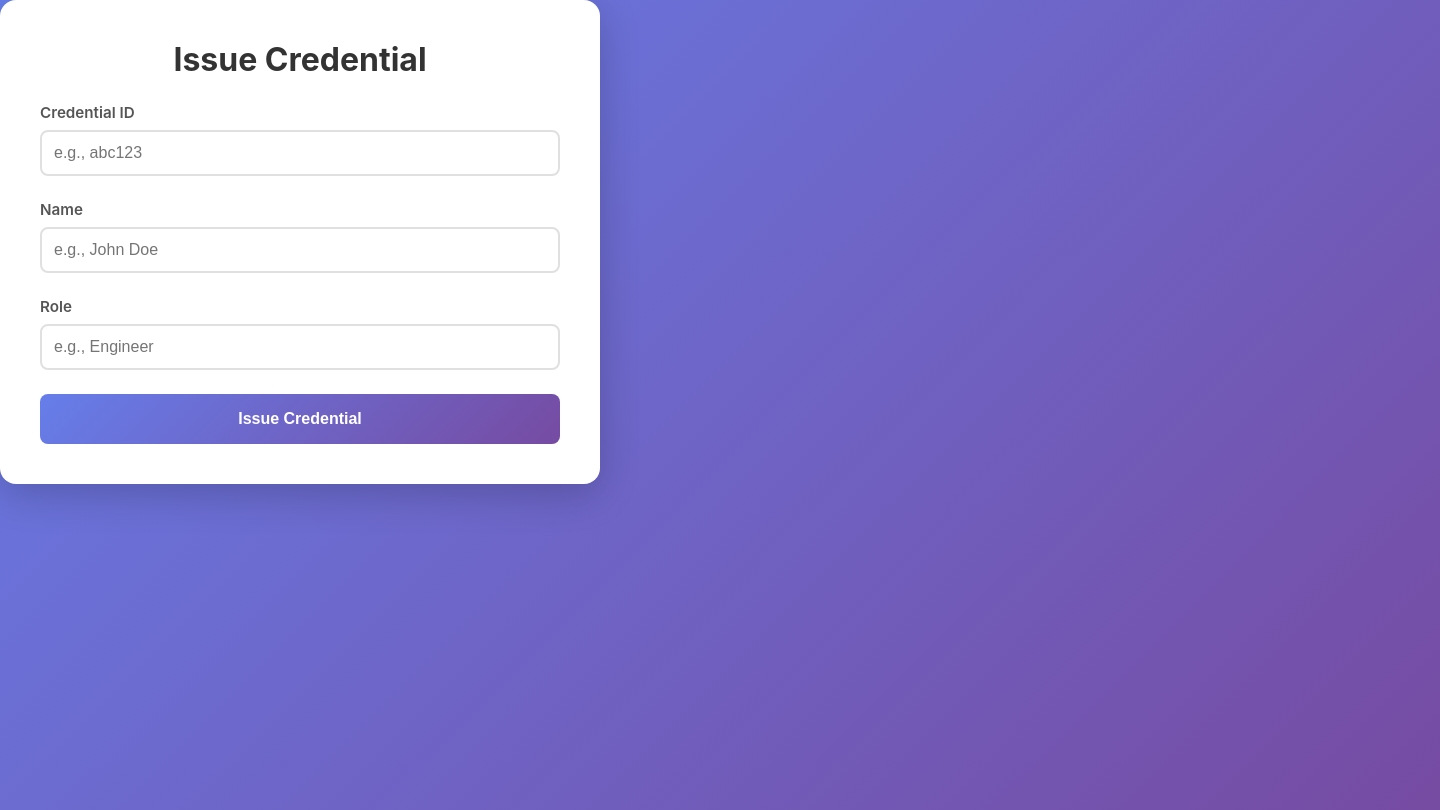
Test: IssuePage › handles credential issuance error
Step 1. Type "test123" into the field labelled "Credential ID" → (300, 153), box [40, 130, 560, 176]
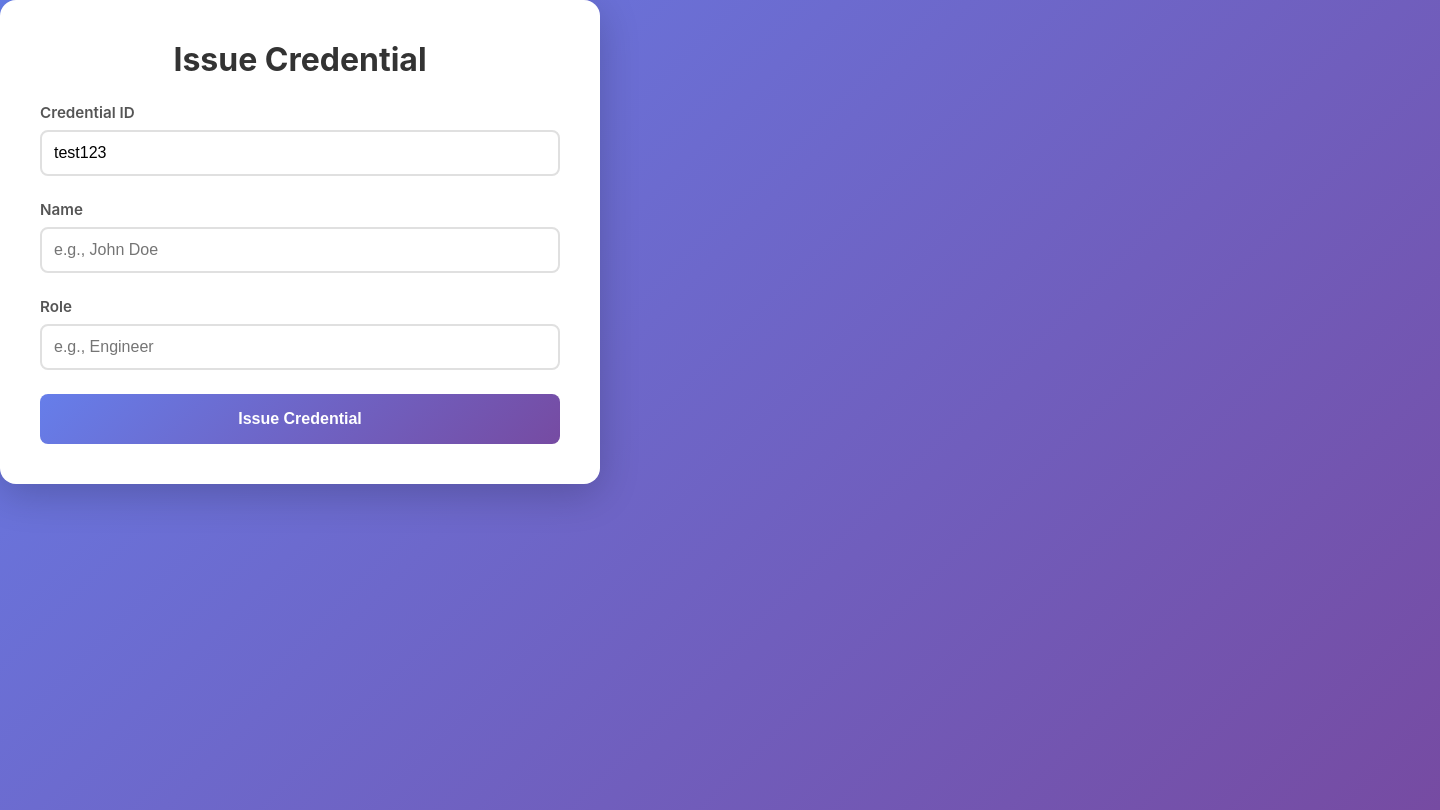
Step 2. Type "John Doe" into the field labelled "Name" → (300, 250), box [40, 227, 560, 273]
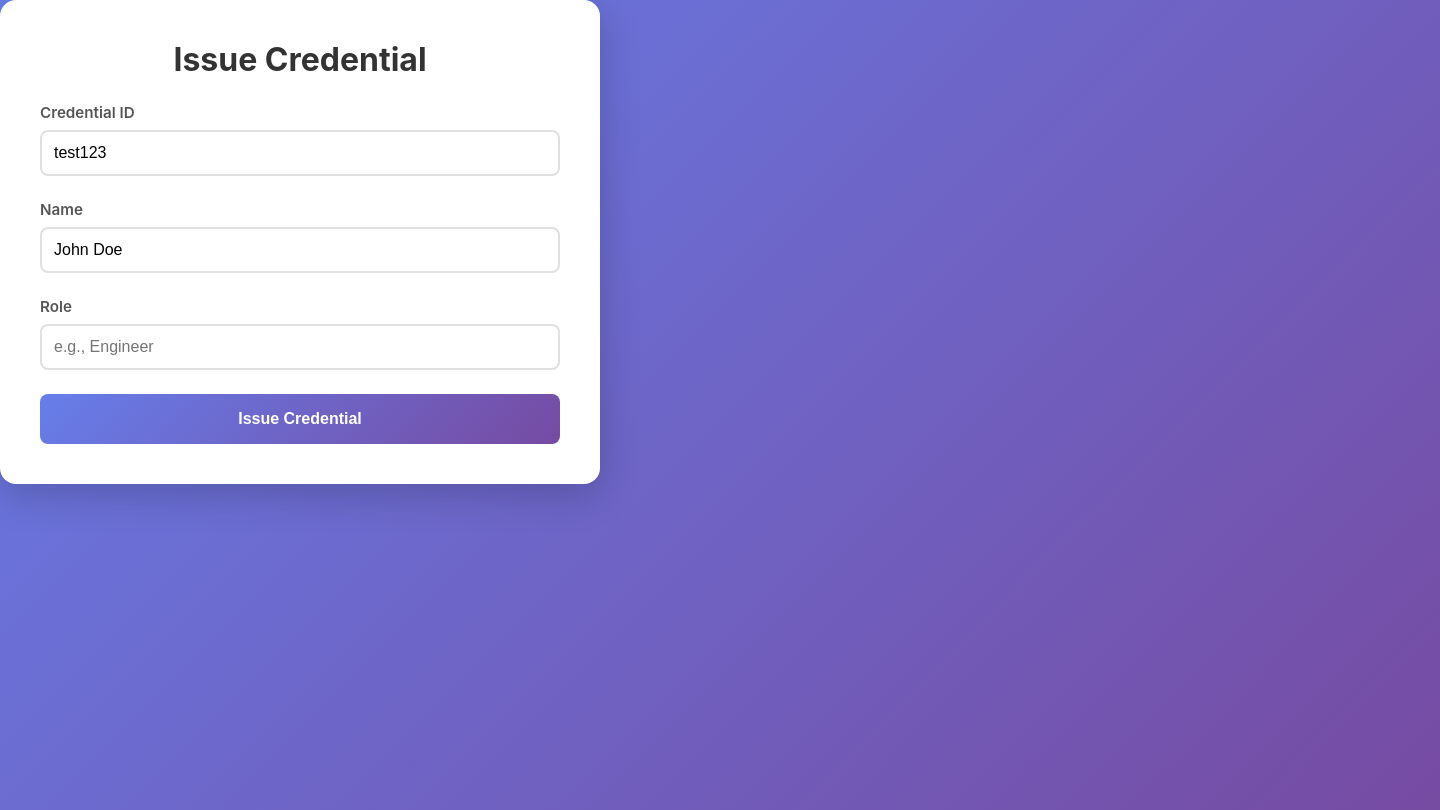
Step 3. Type "Engineer" into the field labelled "Role" → (300, 347), box [40, 324, 560, 370]
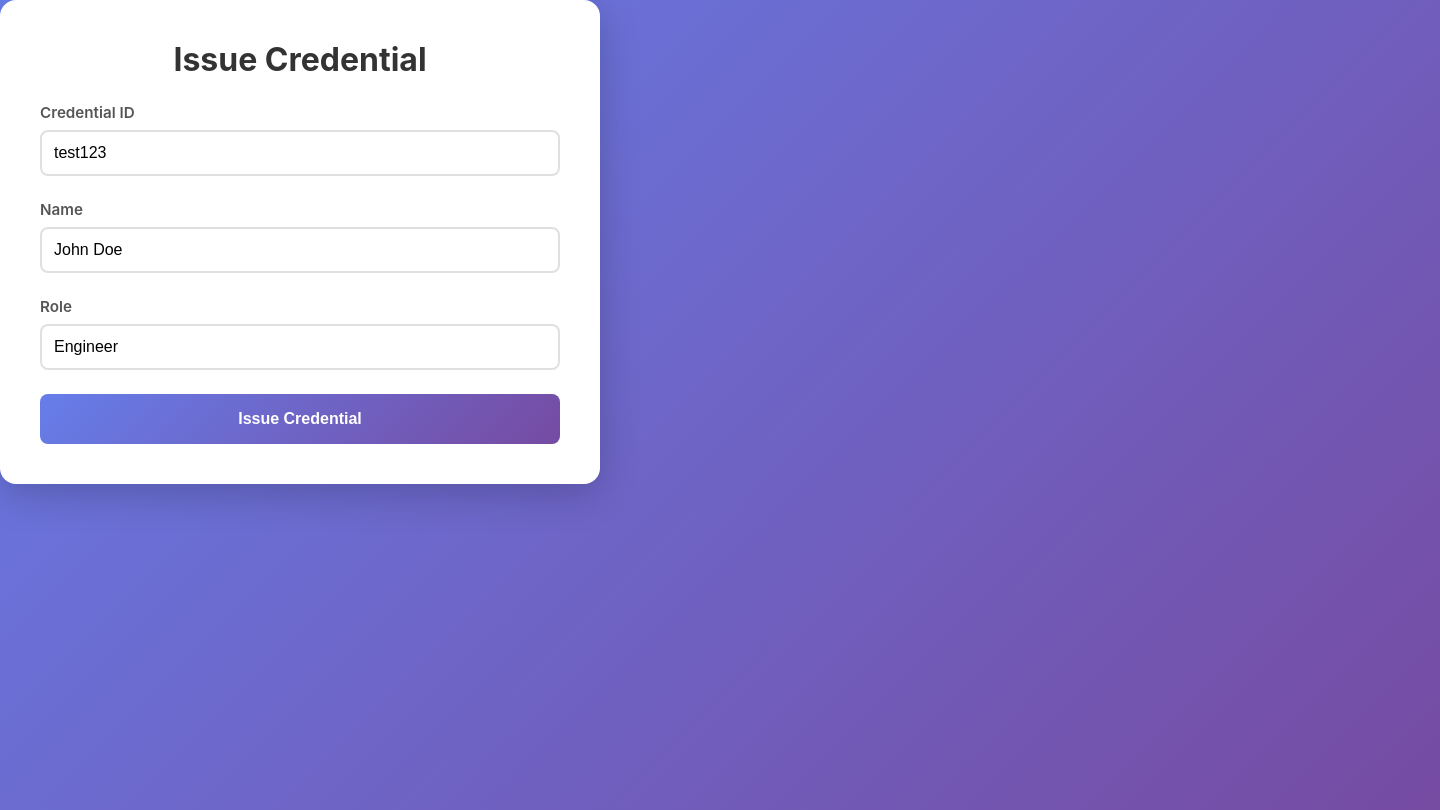
Step 4. Click the button "Issue Credential" → click(300, 419), box [40, 394, 560, 444]
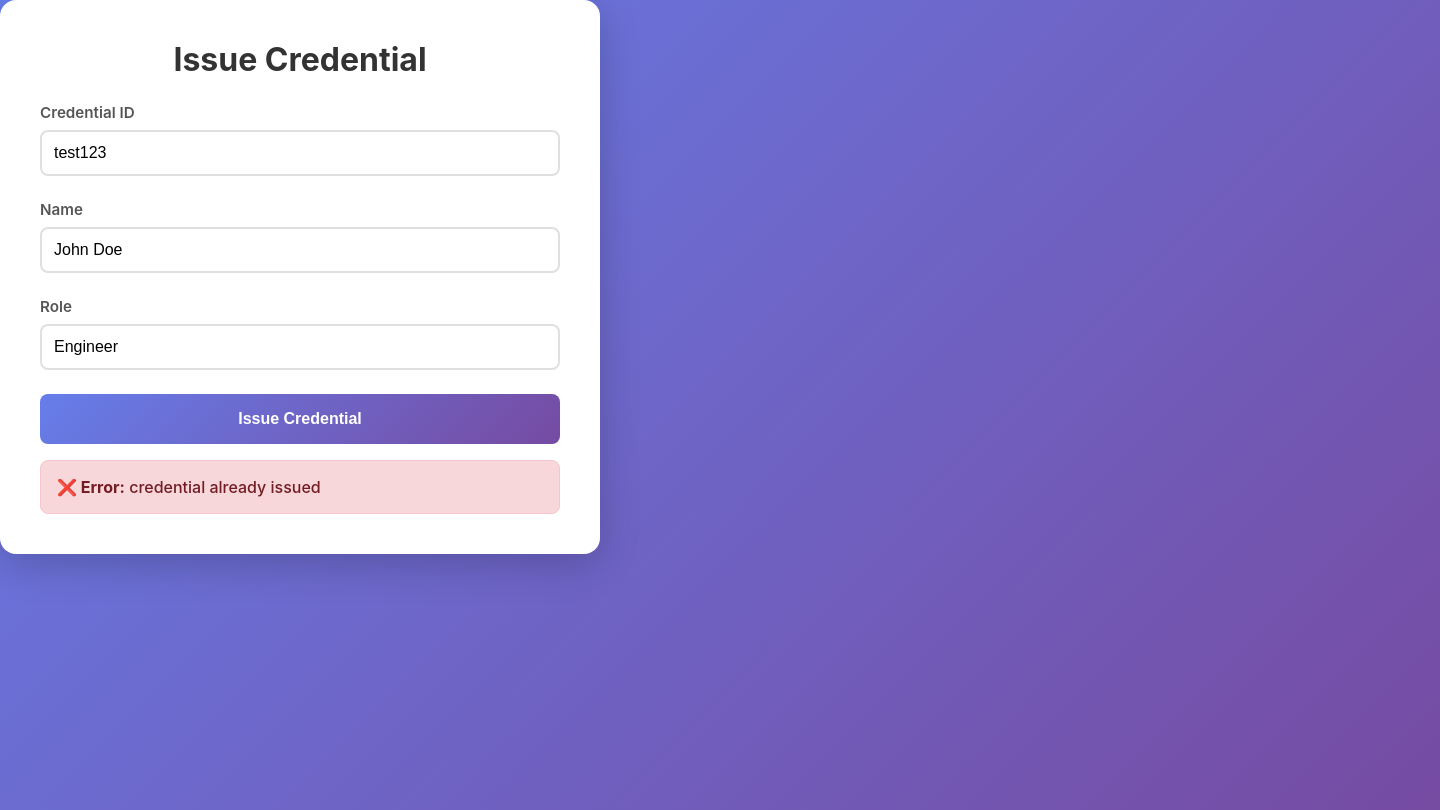
Result: the text "❌ Error:" is shown at [57, 477, 125, 497]
Result: the text "❌ Error: credential already issued" is shown at [40, 460, 560, 514]
